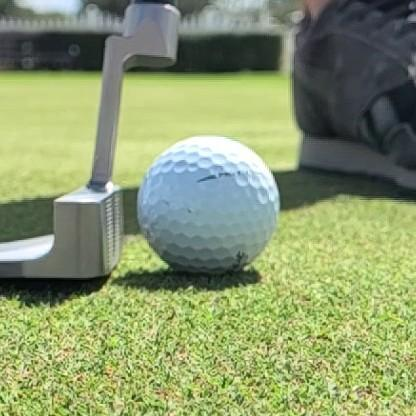golfball: (137, 137, 279, 275)
